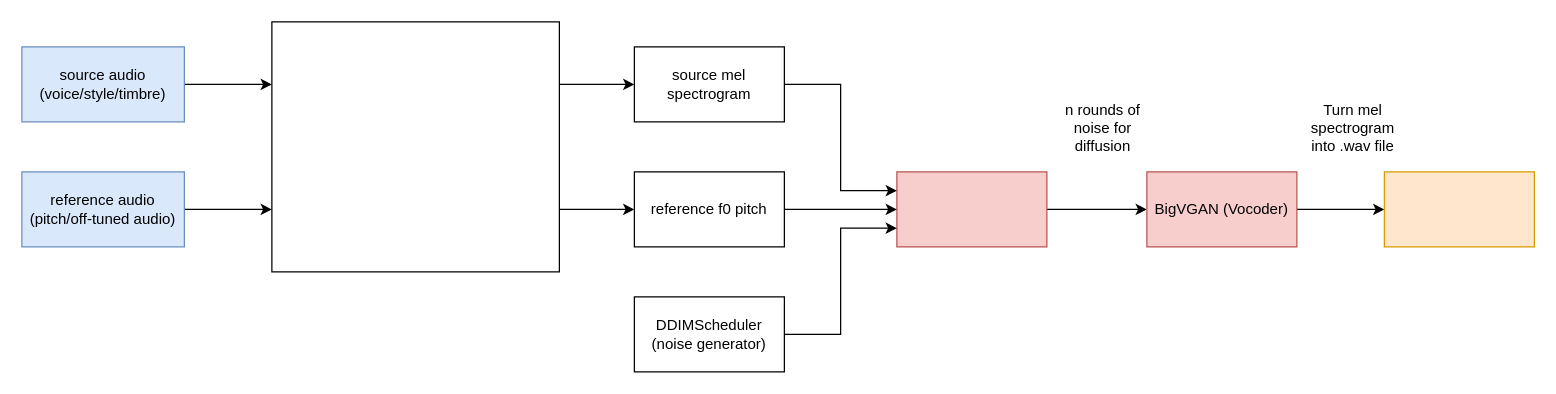
This 1556x394 diagram has some shape labels left out. The centre of each missing label's shape, as x and y in pixels:
auto-tuned audio in the same voice as the source: point (1458, 209)
some black box signal processing transformations: point (415, 146)
UNetPitcher: point (971, 209)
